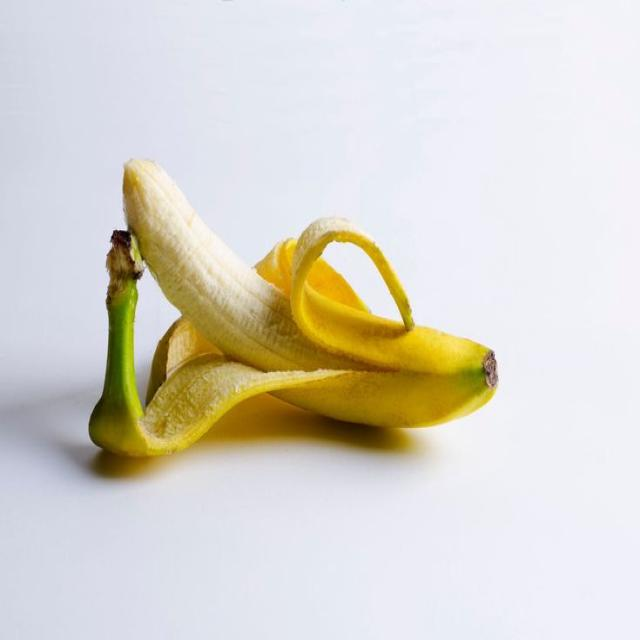banana: (90, 160, 497, 455)
